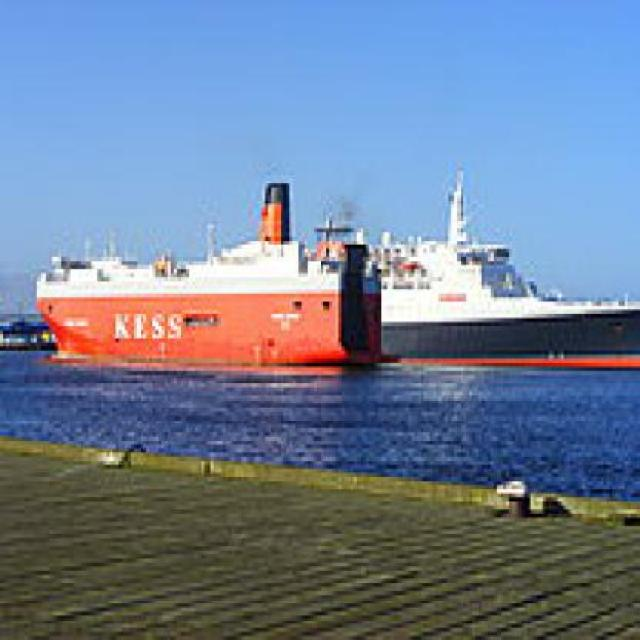cruise: (26, 168, 638, 409)
